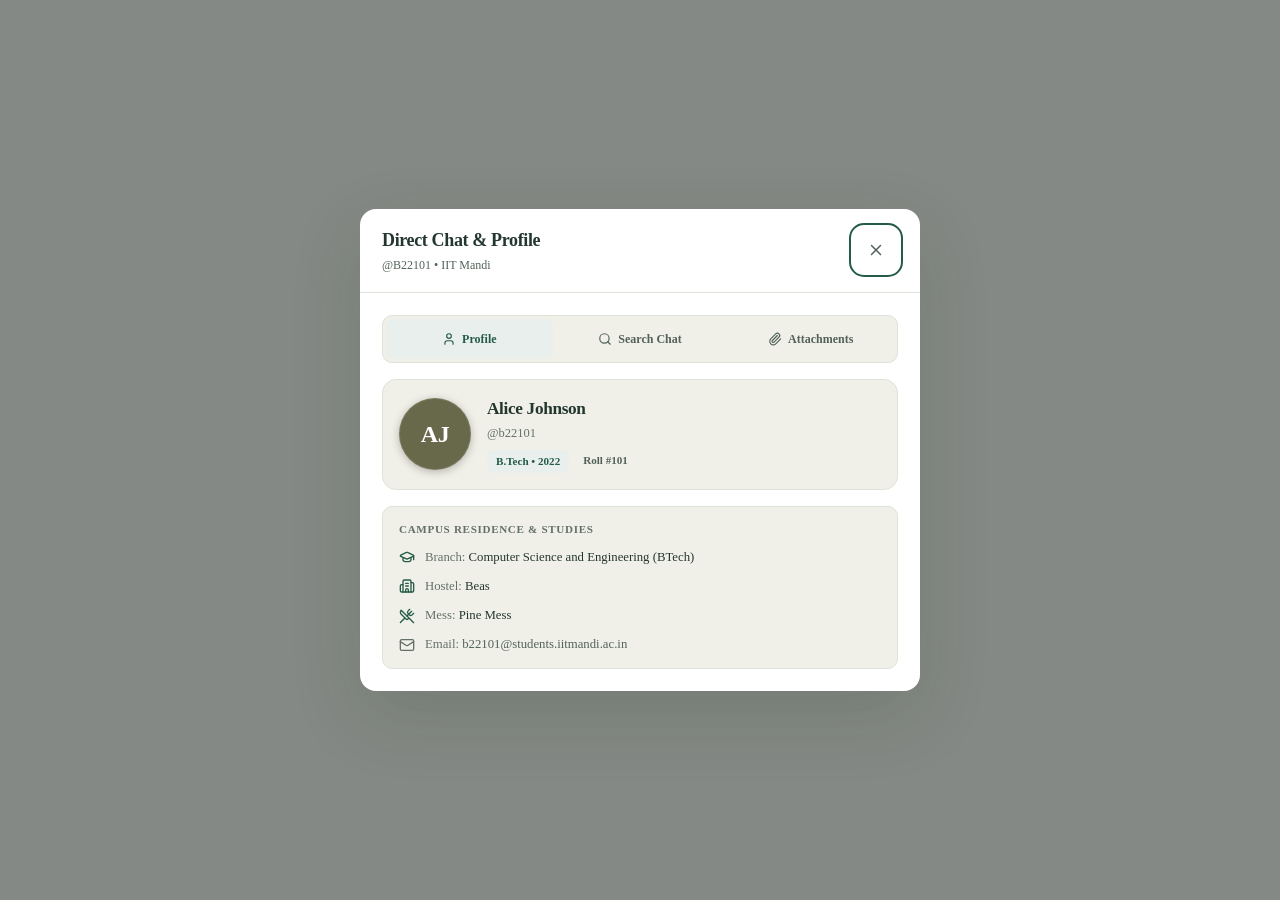
Test: Expanded Profile Modals › renders direct conversation expanded modal with tabs, embedded search, and attachments grid
expect the heading "Alice Johnson" is shown: met, box [487,396,586,422]
expect the text "@B22101 • IIT Mandi" is shown: met, box [382,258,491,272]
Note: Switch to Search Chat tab
What coordinates should you click on to do the following:
click the button "Search Chat"
I would click on:
 (640, 339)
Its box is [557,319,723,359].
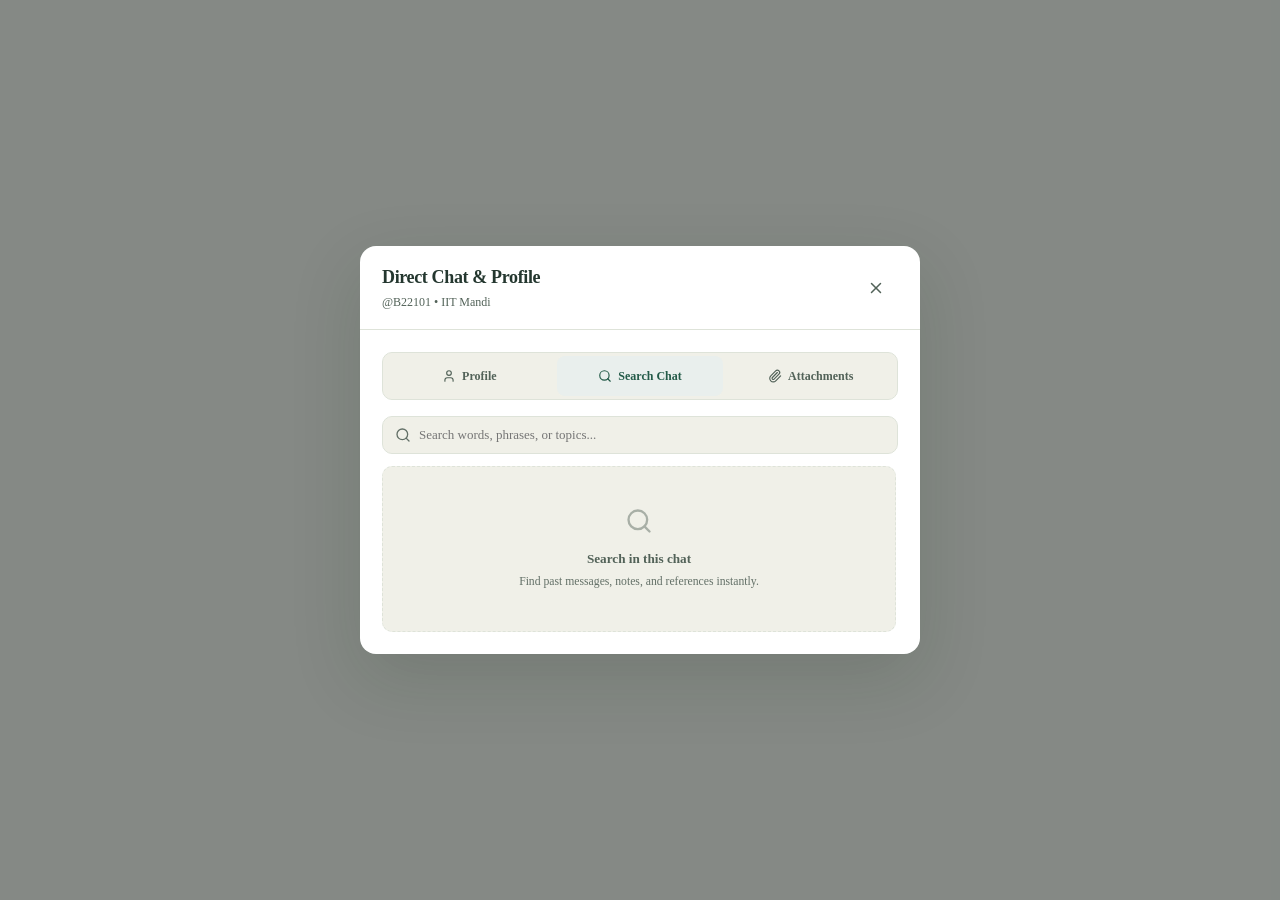
expect the field with placeholder "Search words, phrases, or topics..." is shown: met, box [419,425,885,445]
Note: Switch to Attachments tab
What coordinates should you click on to do the following:
click the button "Attachments"
I would click on:
 (811, 376)
Its box is [727,356,894,396].
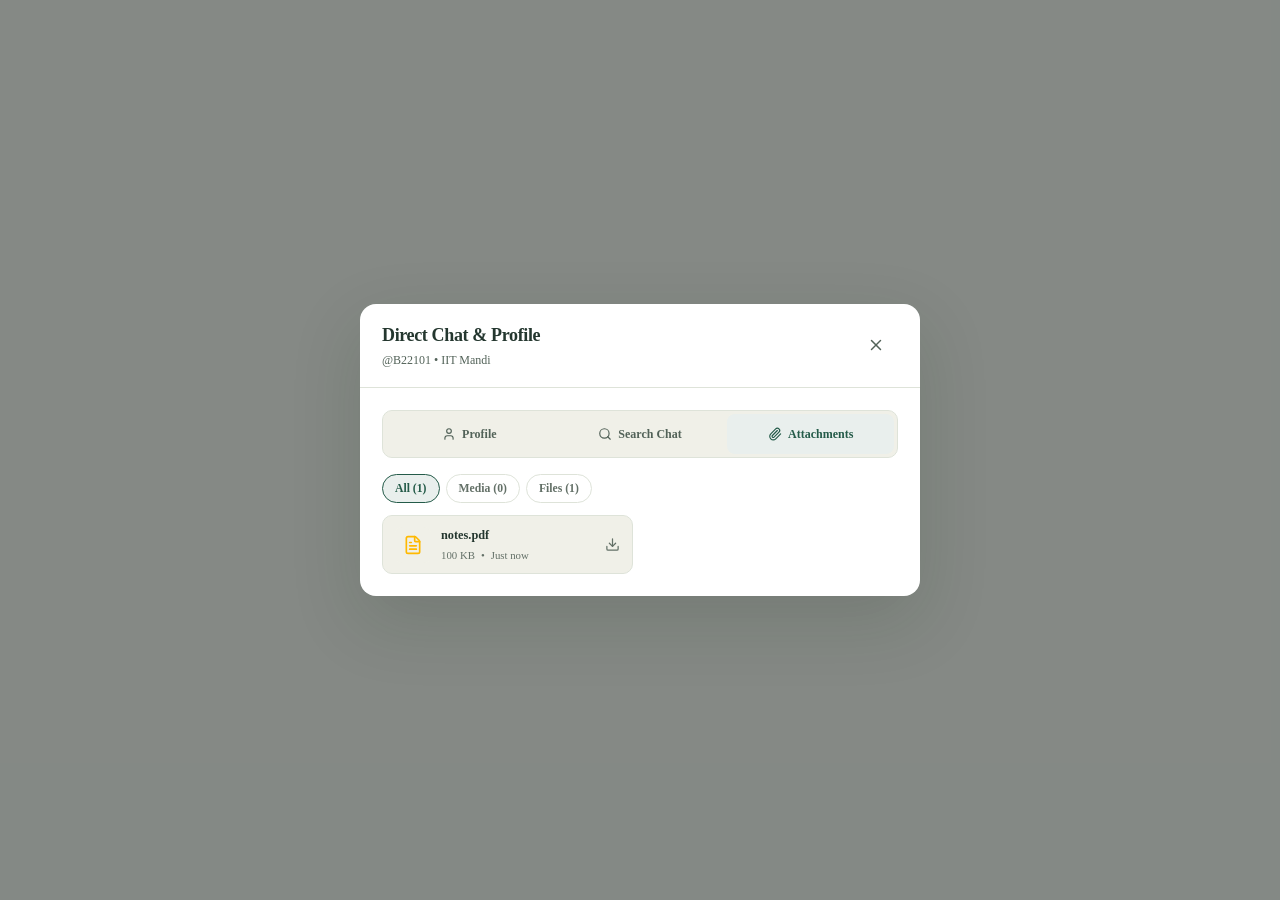
expect the button "All (1)" is shown: met, box [382,474,440,503]
expect the text "notes.pdf" is shown: met, box [441,528,489,542]
